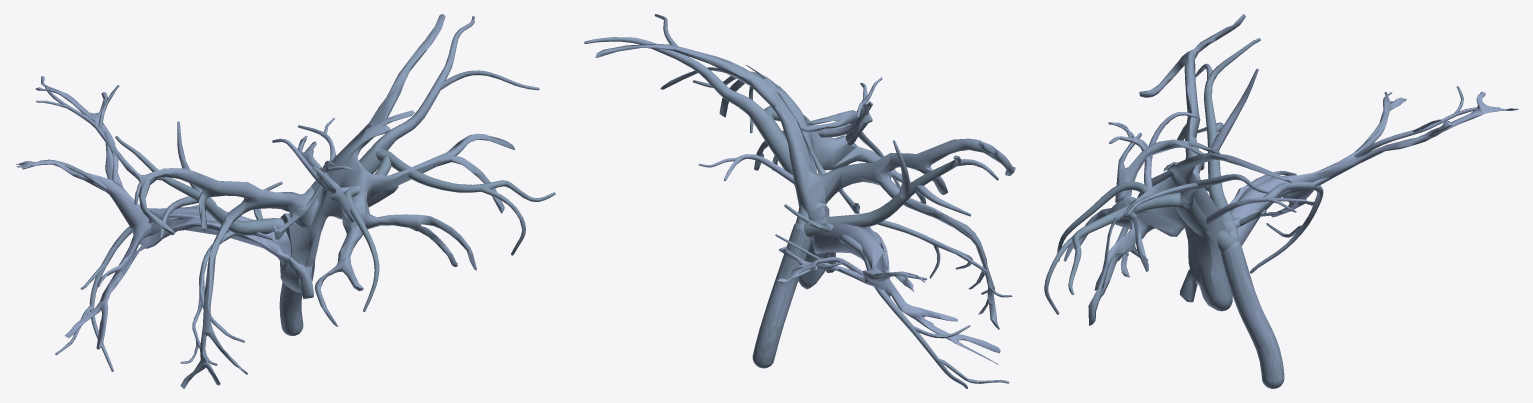
File: hepatic-portal-vein.glb
3 renders of one model, left to right at view 1: azimuth 30°, elevation 25°; view 2: azimuth 150°, elevation 25°; view 3: azimuth 270°, elevation 25°, orthographic. The views are drawn at different scales.
Visible parts, largest first — view 1: FJ2404 Left portal vein, FJ2405 Right portal vein, FJ3126 Lateral superior segmental branch of left portal vein, FJ3125 Lateral inferior segmental branch of left portal vein, FJ3073 Anterior superior segmental branch of right portal ve, FJ3074 Anterior inferior segmental branch of right portal ve, FJ1913 Right portal vein, FJ3128 Medial inferior segmental branch of left portal vein, FJ3113 Posterior superior segmental branch of right portal v, FJ3111 Posterior inferior segmental branch of right portal v, FJ1853 Hepatic portal vein, FJ1893 Left portal vein (+3 smaller); view 2: FJ2404 Left portal vein, FJ2405 Right portal vein, FJ3126 Lateral superior segmental branch of left portal vein, FJ3082 Pre-hepatic portal vein, FJ1853 Hepatic portal vein, FJ3074 Anterior inferior segmental branch of right portal ve, FJ3073 Anterior superior segmental branch of right portal ve, FJ1913 Right portal vein, FJ3111 Posterior inferior segmental branch of right portal v, FJ3102 Trunk of left portal vein, FJ3113 Posterior superior segmental branch of right portal v, FJ3124 Caudate lobe branch of left portal vein (+1 smaller); view 3: FJ2404 Left portal vein, FJ2405 Right portal vein, FJ1853 Hepatic portal vein, FJ3082 Pre-hepatic portal vein, FJ3125 Lateral inferior segmental branch of left portal vein, FJ3073 Anterior superior segmental branch of right portal ve, FJ3111 Posterior inferior segmental branch of right portal v, FJ3126 Lateral superior segmental branch of left portal vein, FJ1913 Right portal vein, FJ3102 Trunk of left portal vein, FJ3128 Medial inferior segmental branch of left portal vein, FJ3127 Medial superior segmental branch of left portal vein (+5 smaller).
Boxes of the visible parts, left/top/right/bottom form: FJ2404 Left portal vein: left=104, top=14, right=514, bottom=388; FJ2405 Right portal vein: left=16, top=76, right=291, bottom=349; FJ3126 Lateral superior segmental branch of left portal vein: left=371, top=16, right=539, bottom=150; FJ3125 Lateral inferior segmental branch of left portal vein: left=375, top=149, right=555, bottom=255; FJ3073 Anterior superior segmental branch of right portal ve: left=115, top=136, right=286, bottom=235; FJ3074 Anterior inferior segmental branch of right portal ve: left=16, top=122, right=244, bottom=365; FJ1913 Right portal vein: left=22, top=85, right=216, bottom=365; FJ3128 Medial inferior segmental branch of left portal vein: left=344, top=155, right=391, bottom=311; FJ3113 Posterior superior segmental branch of right portal v: left=22, top=85, right=277, bottom=354; FJ3111 Posterior inferior segmental branch of right portal v: left=89, top=205, right=224, bottom=371; FJ1853 Hepatic portal vein: left=279, top=285, right=303, bottom=335; FJ1893 Left portal vein: left=316, top=70, right=539, bottom=254; FJ2404 Left portal vein: left=595, top=44, right=1015, bottom=329; FJ2405 Right portal vein: left=777, top=223, right=1000, bottom=364; FJ3126 Lateral superior segmental branch of left portal vein: left=584, top=14, right=768, bottom=127; FJ3082 Pre-hepatic portal vein: left=752, top=223, right=811, bottom=368; FJ1853 Hepatic portal vein: left=752, top=223, right=808, bottom=368; FJ3074 Anterior inferior segmental branch of right portal ve: left=877, top=141, right=1012, bottom=296; FJ3073 Anterior superior segmental branch of right portal ve: left=804, top=155, right=961, bottom=227; FJ1913 Right portal vein: left=775, top=140, right=1011, bottom=383; FJ3111 Posterior inferior segmental branch of right portal v: left=823, top=222, right=967, bottom=388; FJ3102 Trunk of left portal vein: left=757, top=113, right=808, bottom=224; FJ3113 Posterior superior segmental branch of right portal v: left=776, top=206, right=1008, bottom=383; FJ3124 Caudate lobe branch of left portal vein: left=698, top=154, right=794, bottom=184; FJ2404 Left portal vein: left=1063, top=14, right=1292, bottom=325; FJ2405 Right portal vein: left=1229, top=91, right=1518, bottom=245; FJ1853 Hepatic portal vein: left=1222, top=239, right=1284, bottom=388; FJ3082 Pre-hepatic portal vein: left=1221, top=239, right=1284, bottom=388; FJ3125 Lateral inferior segmental branch of left portal vein: left=1044, top=192, right=1180, bottom=314; FJ3073 Anterior superior segmental branch of right portal ve: left=1204, top=38, right=1260, bottom=236; FJ3111 Posterior inferior segmental branch of right portal v: left=1233, top=182, right=1323, bottom=273; FJ3126 Lateral superior segmental branch of left portal vein: left=1127, top=174, right=1269, bottom=214; FJ1913 Right portal vein: left=1127, top=64, right=1463, bottom=255; FJ3102 Trunk of left portal vein: left=1176, top=192, right=1236, bottom=253; FJ3128 Medial inferior segmental branch of left portal vein: left=1057, top=181, right=1170, bottom=261; FJ3127 Medial superior segmental branch of left portal vein: left=1108, top=111, right=1197, bottom=189.
Bounding box in the file's own units: 0.1587 × 0.101 × 0.1499.
